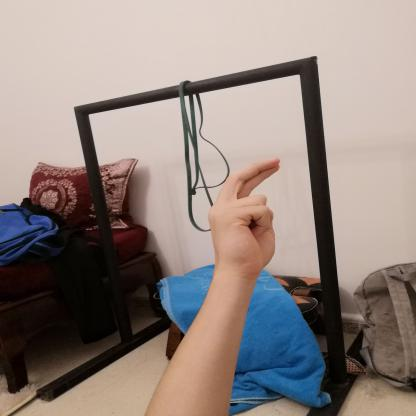ZAY: (196, 153, 290, 282)
